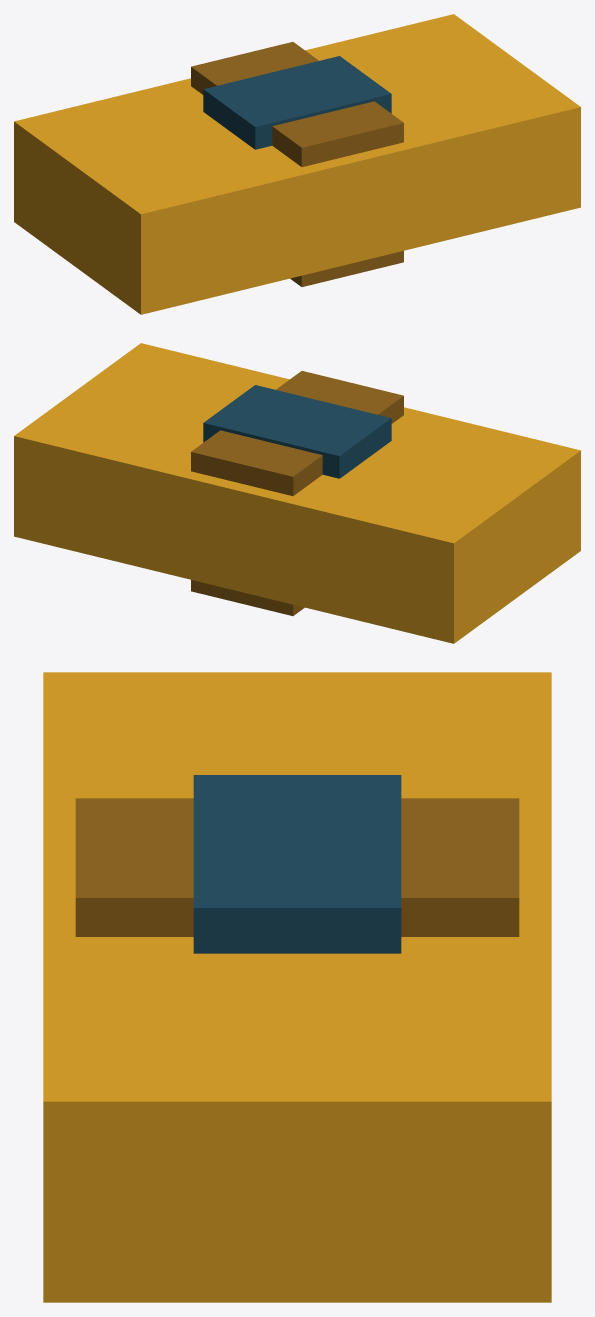
Rendered from top_lifter_guam_body.dae.
3 renders of one model, top to bottom at view 1: azimuth 30°, elevation 25°; view 2: azimuth 150°, elevation 25°; view 3: azimuth 270°, elevation 25°, orthographic. The views are drawn at different scales.
Visible parts, largest first — view 1: chassis, rear_counterweight, cab; view 2: chassis, rear_counterweight, cab; view 3: chassis, cab, rear_counterweight.
Boxes of the visible parts, x1,y1,x2,y2 form: chassis: (14, 14, 580, 314); rear_counterweight: (191, 42, 403, 286); cab: (203, 56, 391, 149); chassis: (14, 343, 580, 643); rear_counterweight: (191, 371, 403, 615); cab: (203, 385, 391, 478); chassis: (43, 672, 551, 1302); cab: (193, 775, 401, 953); rear_counterweight: (75, 798, 519, 936).
Size of the model in its own units: 7.1 by 3.55 by 2.25.
